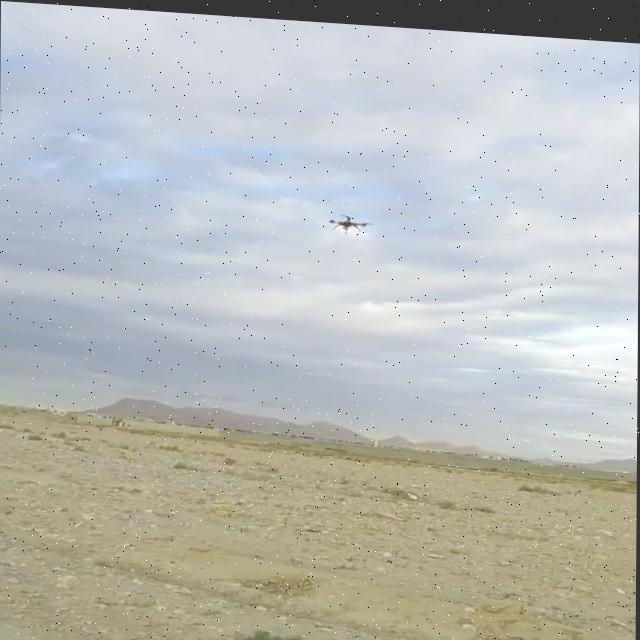drone: (323, 201, 374, 232)
